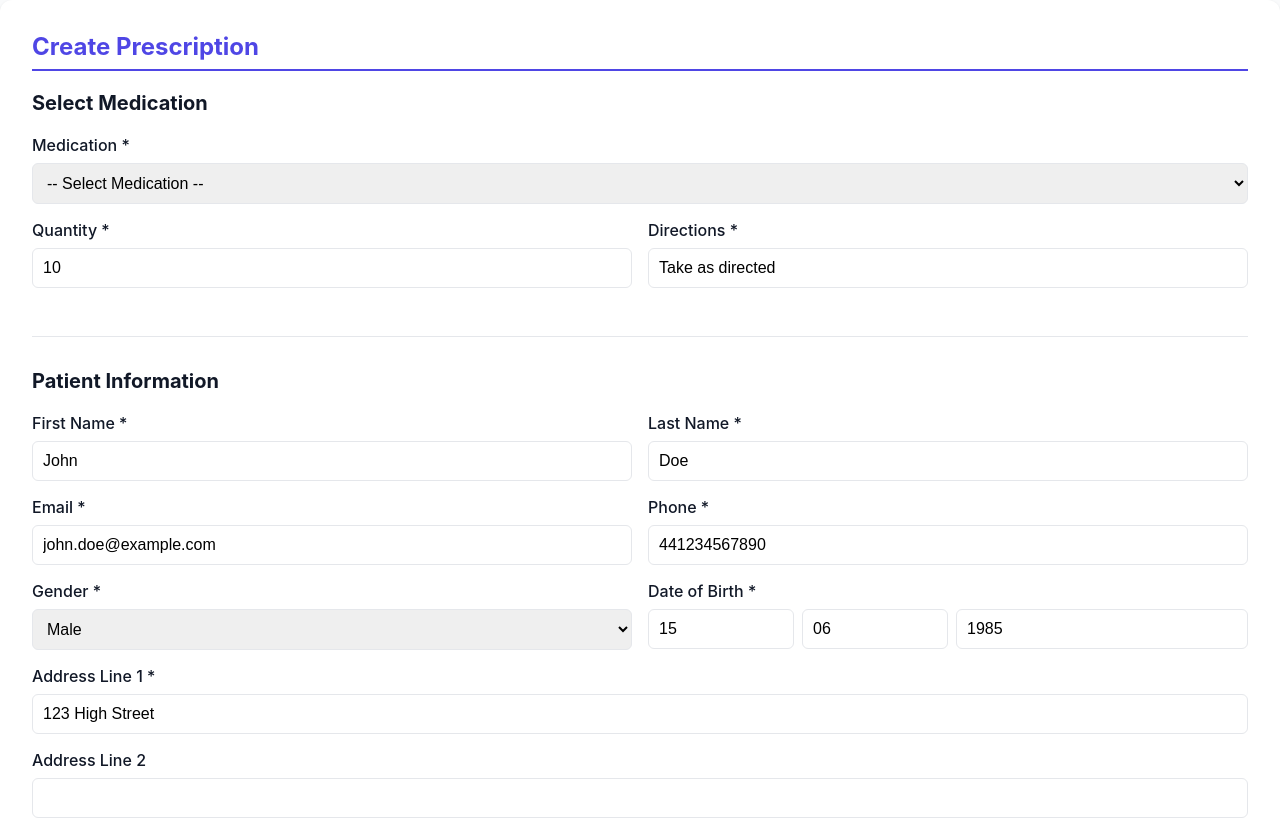
Test: PrescriptionForm › displays medication details when a medication is selected
Select "Paracetamol 500mg (tablet)" in the dropdown labelled "Medication *": (640, 183) [32,163,1248,204]
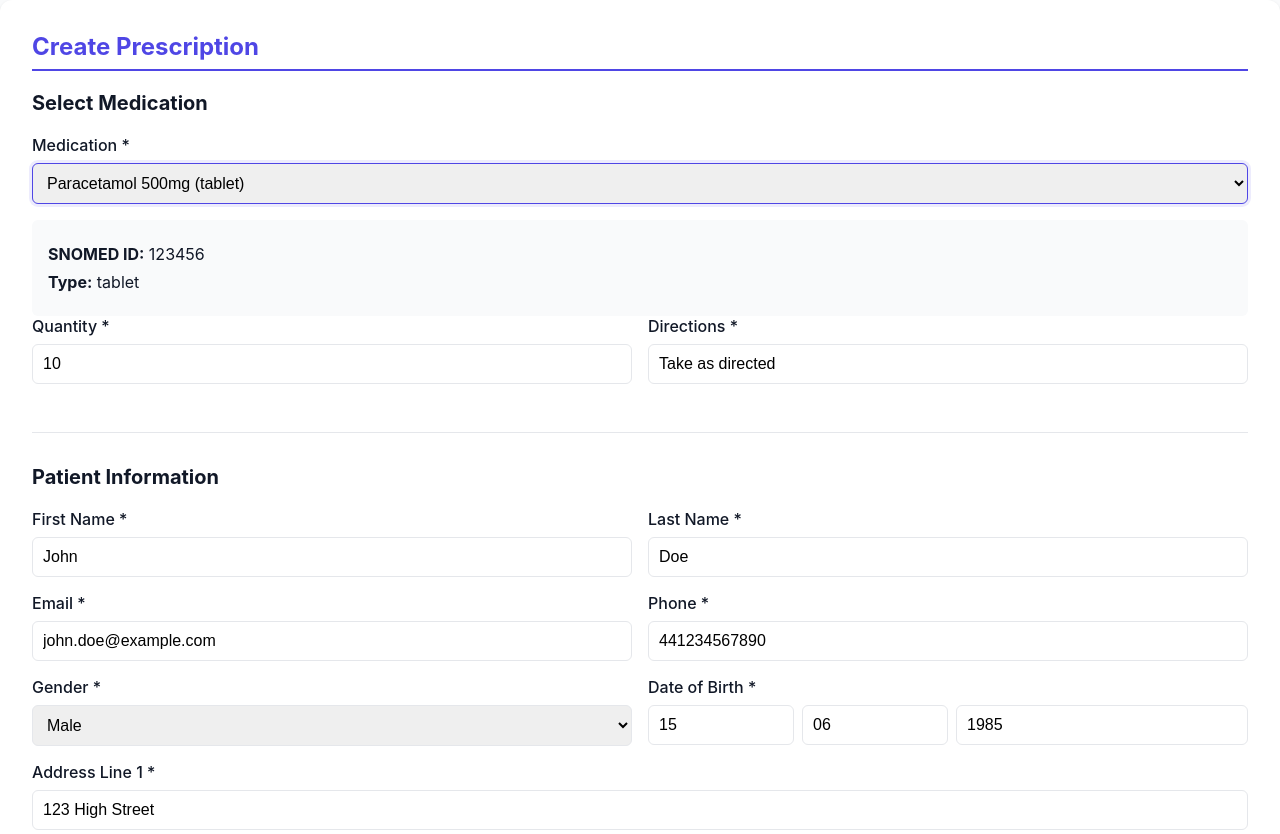
Check: the text "SNOMED ID:" is shown, box [48,244,144,264]
Check: the text "123456" is shown, box [149,244,205,264]
Check: the text "Type:" is shown, box [48,272,92,292]
